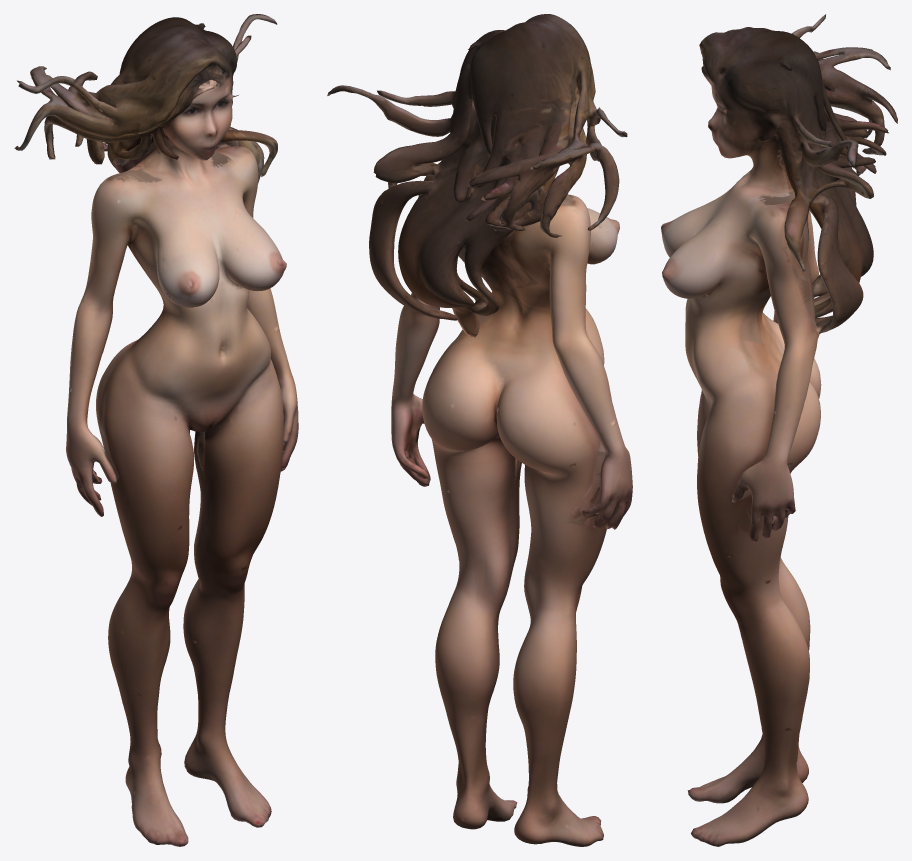
Rendered from wom8.glb.
The picture shows the model from 3 angles, left to right: view 1: azimuth 30°, elevation 25°; view 2: azimuth 150°, elevation 25°; view 3: azimuth 270°, elevation 25°; orthographic projection. The views are drawn at different scales.
Bounding box in the file's own units: 0.728 × 2 × 0.5473.
Materials: 1 (1 with a texture image).
